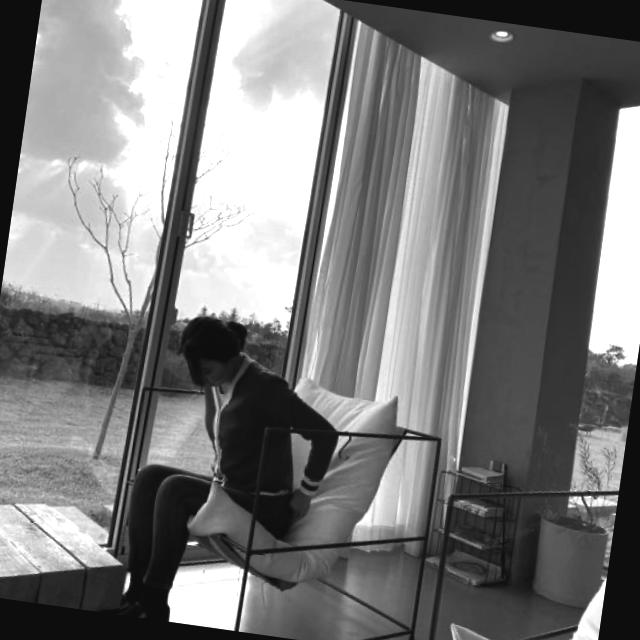cardigan: (190, 352, 350, 511)
denimpants: (120, 459, 218, 591)
